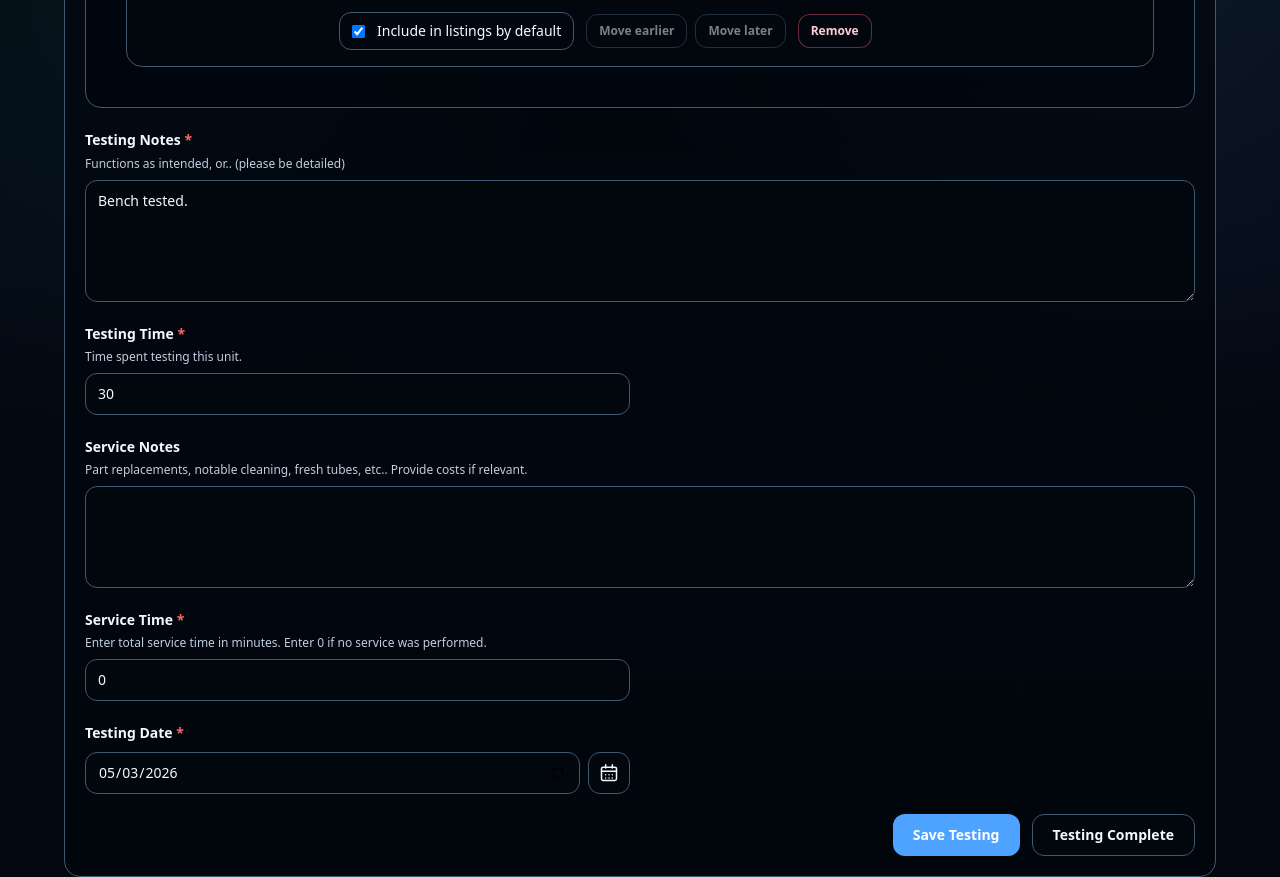
Test: TestingFormTab › blocks Testing Complete when required Service Time is blank
(page scrolled)
Step 1. Clear the number field labelled "Service Time" → {"x": 358, "y": 680}, box [85,659,630,701]
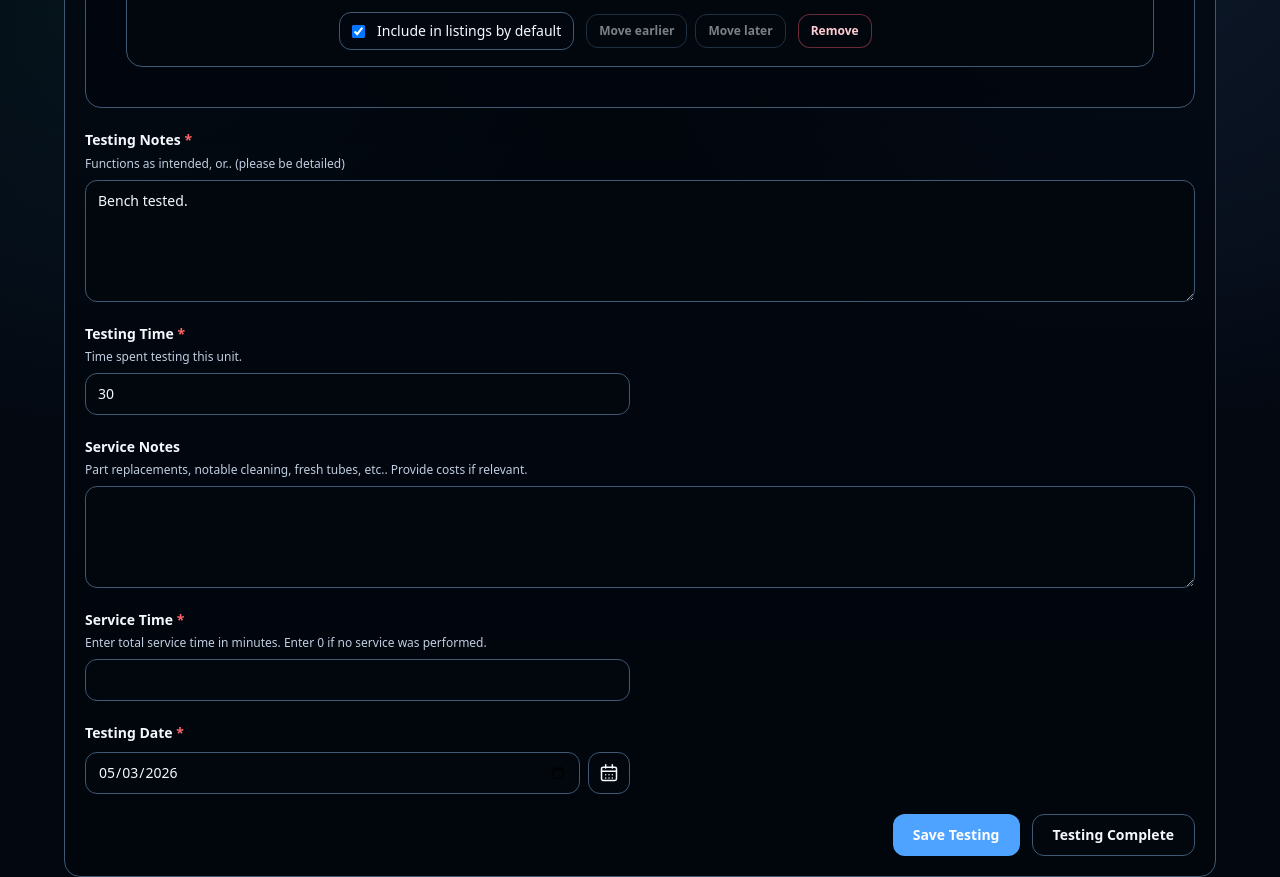
Step 2. Click the button "Testing Complete" → {"x": 1113, "y": 835}, box [1032,814,1195,856]
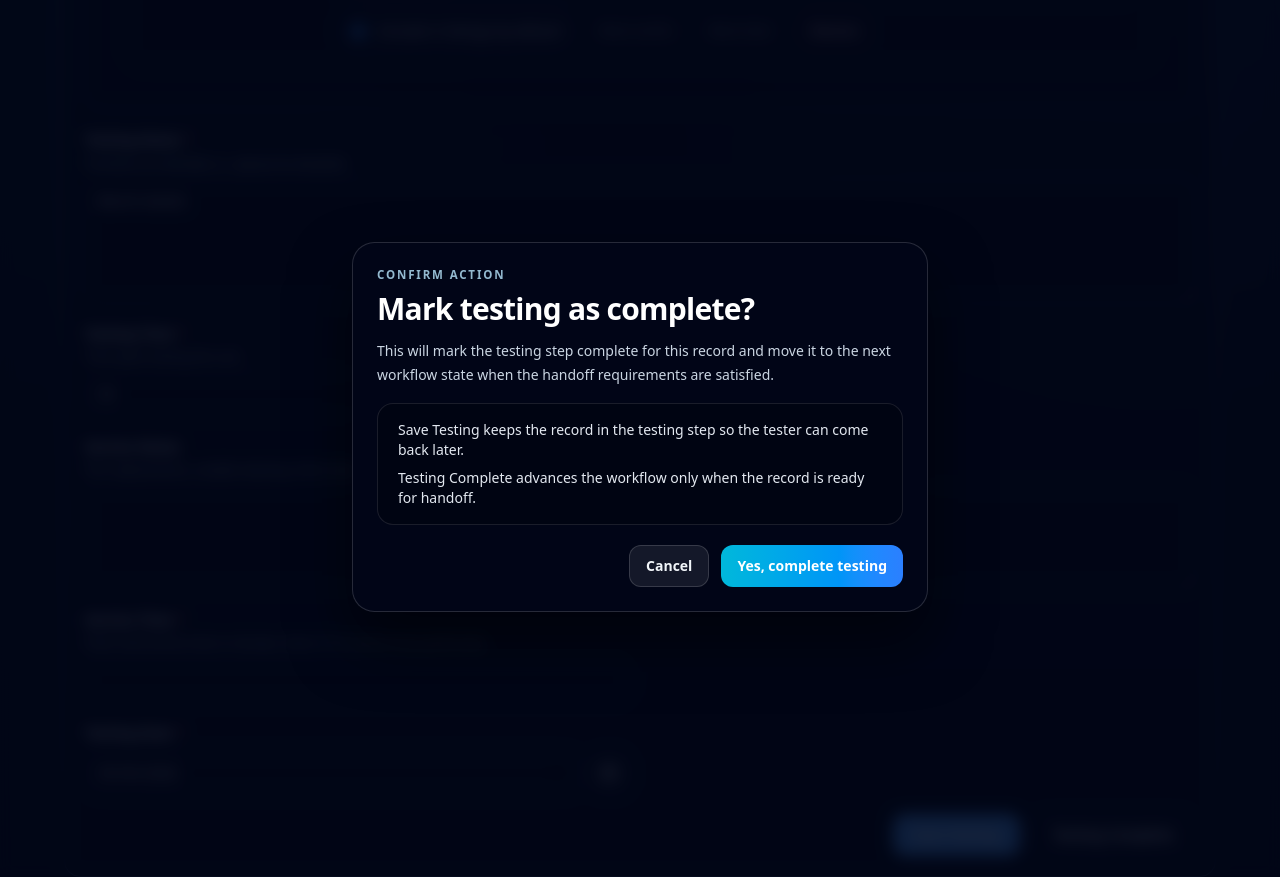
Step 3. Click the button "Yes, complete testing" → {"x": 812, "y": 566}, box [721,545,903,587]
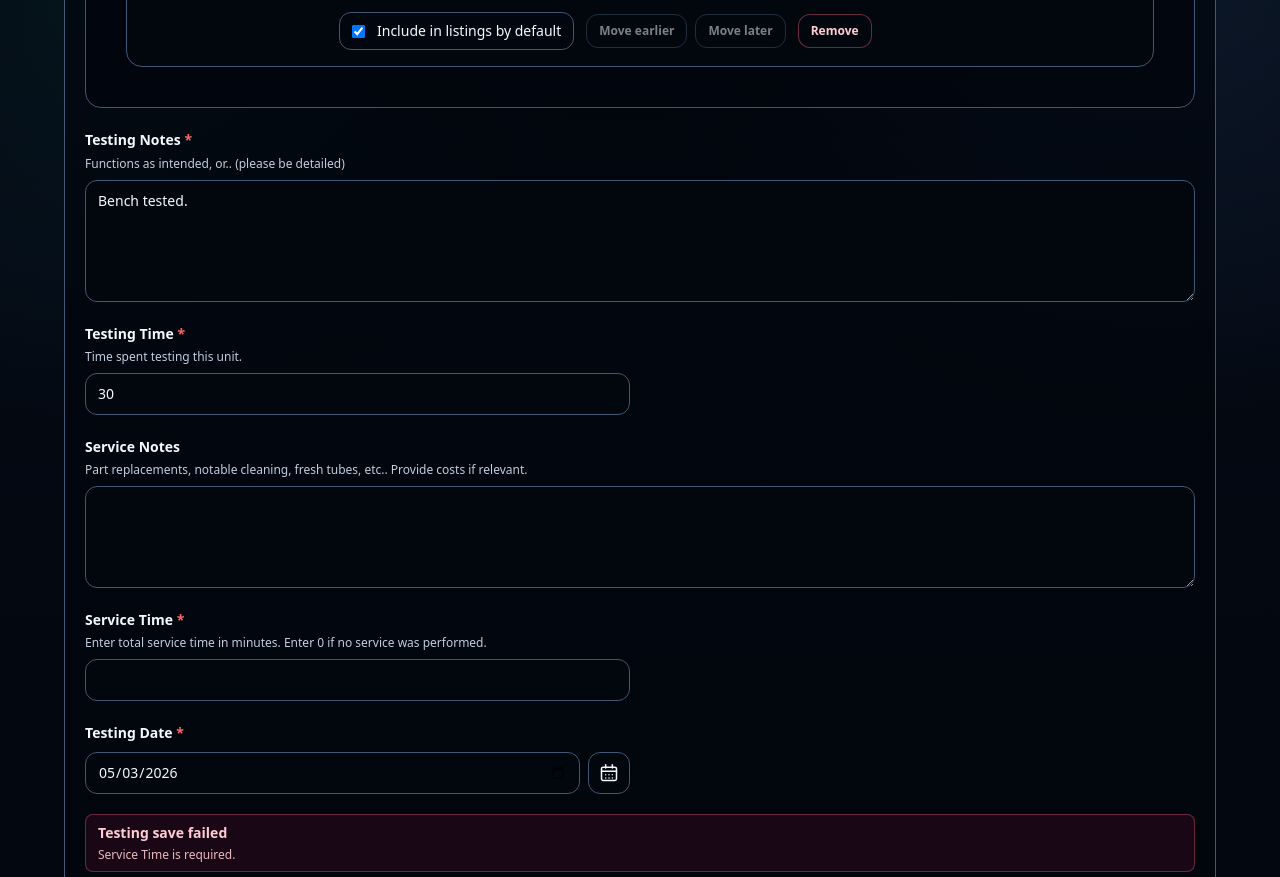
Now the message shows "Service Time is required.", box [98,846,236,863]
